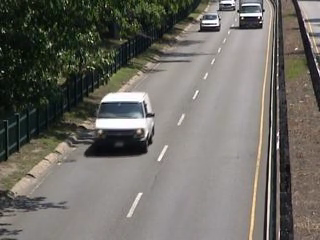car: (198, 13, 224, 33), (217, 1, 238, 12)
truck: (91, 90, 157, 153), (237, 1, 265, 31)
